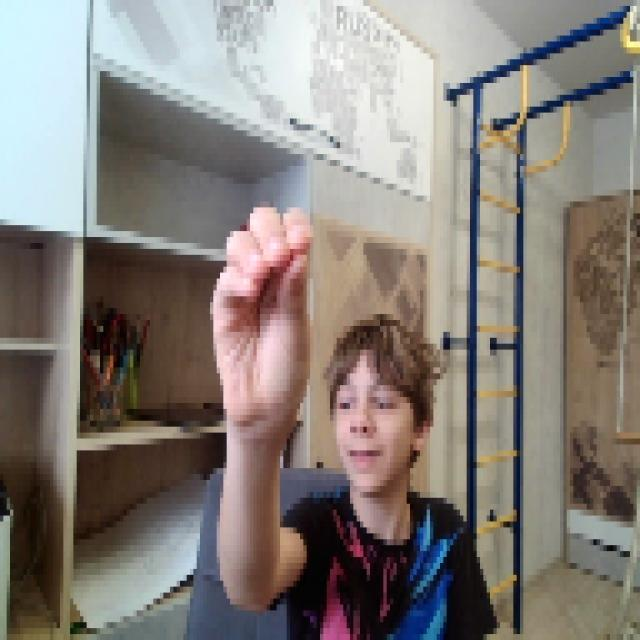left_click: (200, 196, 310, 427)
